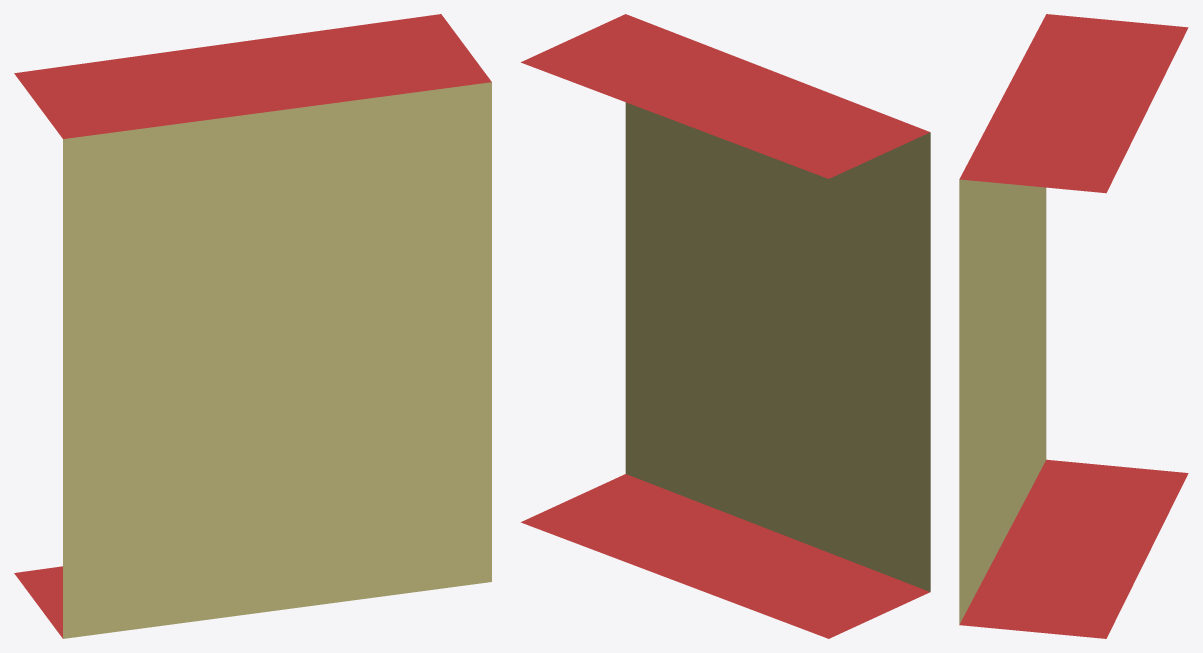
3 renders of one model, left to right at view 1: azimuth 30°, elevation 25°; view 2: azimuth 150°, elevation 25°; view 3: azimuth 270°, elevation 25°, orthographic. The views are drawn at different scales.
Size of the model in its own units: 6.26 by 3.38 by 7.26.
